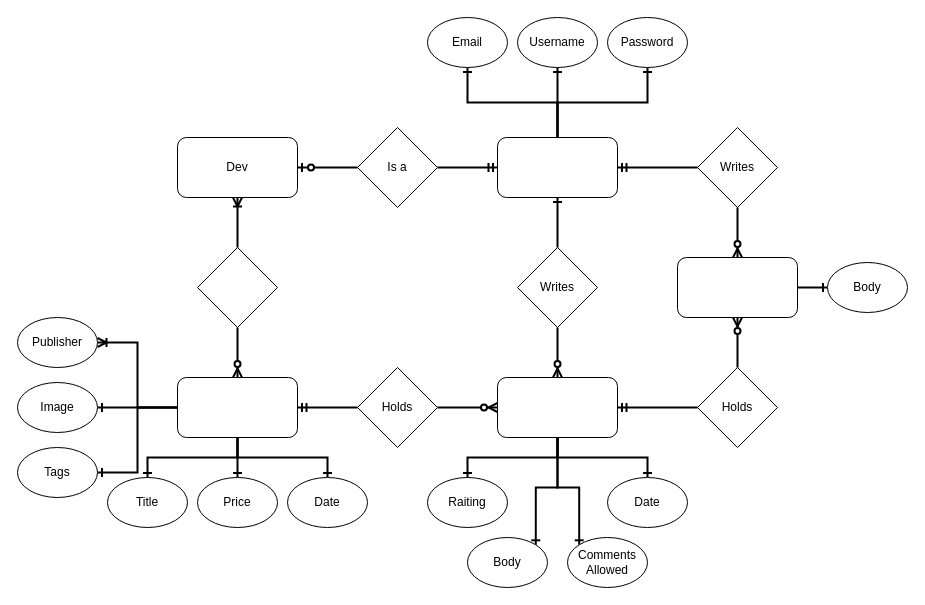
Image size: 925x605. Some labels were removed from this diagram. Each missing label, with the centre of its shape:
"Comments" belongs at point 737,287.
"Creates" belongs at point 237,287.
"Game" belongs at point 237,407.
"Review" belongs at point 557,407.
"User" belongs at point 557,167.
